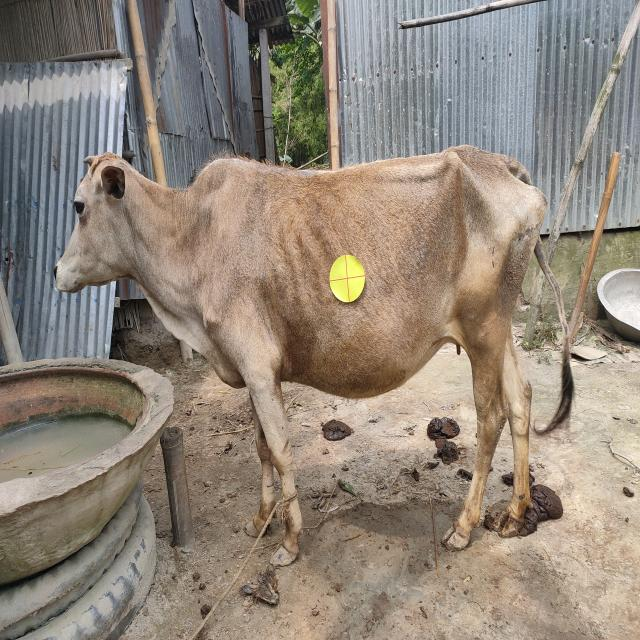badan_sapi: (198, 175, 542, 394)
sapi: (40, 133, 585, 561)
